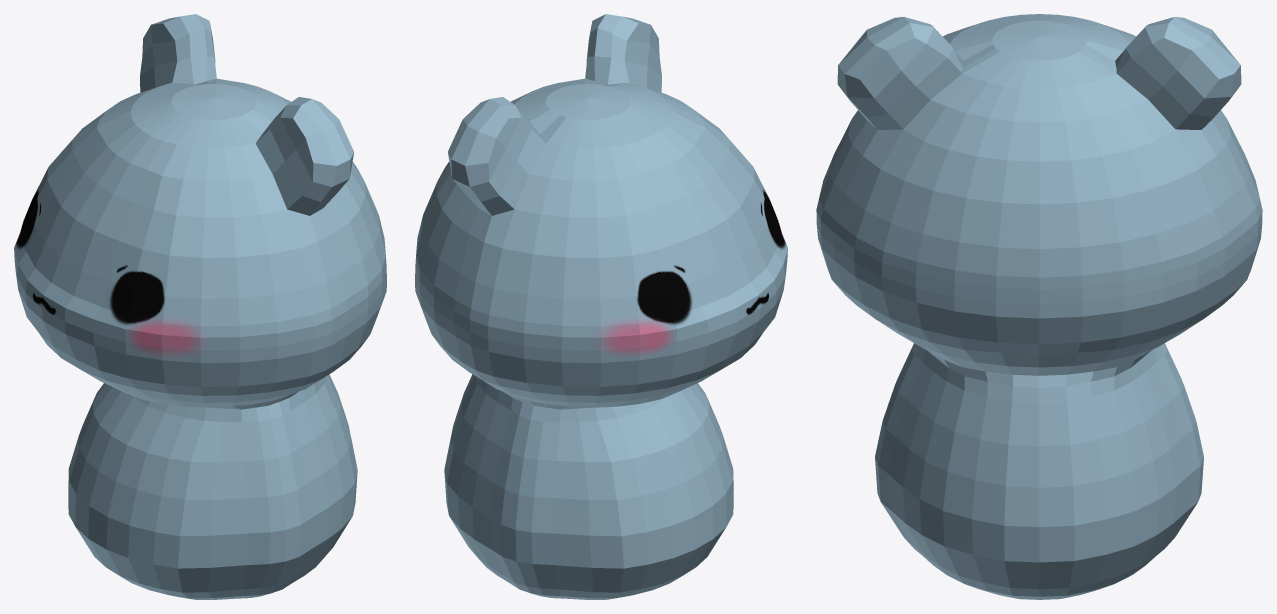
Rendered from hapticos_bear.fbx.
3 views of the same model, side by side, from view 1: azimuth 30°, elevation 25°; view 2: azimuth 150°, elevation 25°; view 3: azimuth 270°, elevation 25° (orthographic). The views are drawn at different scales.
Parts seen in each view (by area): view 1: Oso Mirror; view 2: Oso Mirror; view 3: Oso Mirror.
Part boxes in pixels (x1=…): Oso Mirror: x1=14, y1=14, x2=386, y2=599; Oso Mirror: x1=415, y1=14, x2=787, y2=599; Oso Mirror: x1=816, y1=14, x2=1262, y2=599.
Bounding box in the file's own units: 169 × 256 × 184.
1 material, 1 textured.
